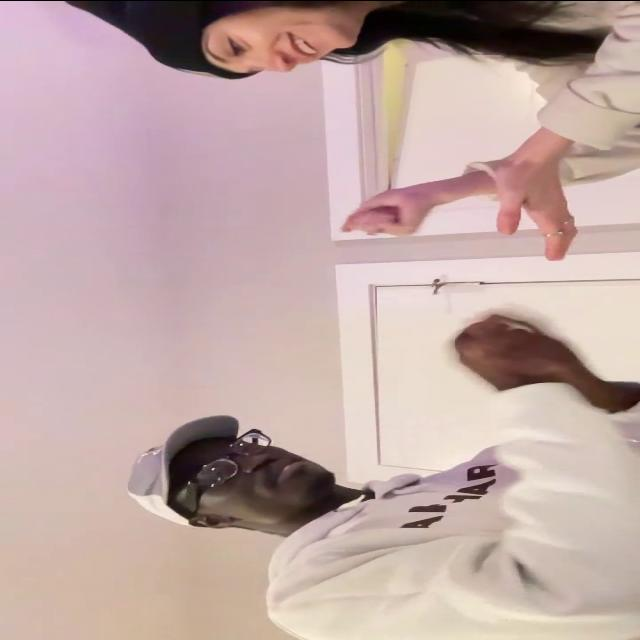Rock: (338, 187, 432, 234)
